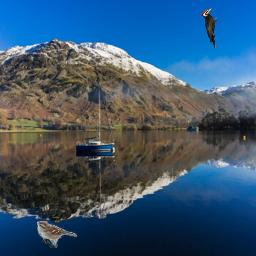Sparrow: (37, 221, 77, 248)
Woodpecker: (200, 8, 217, 48)
